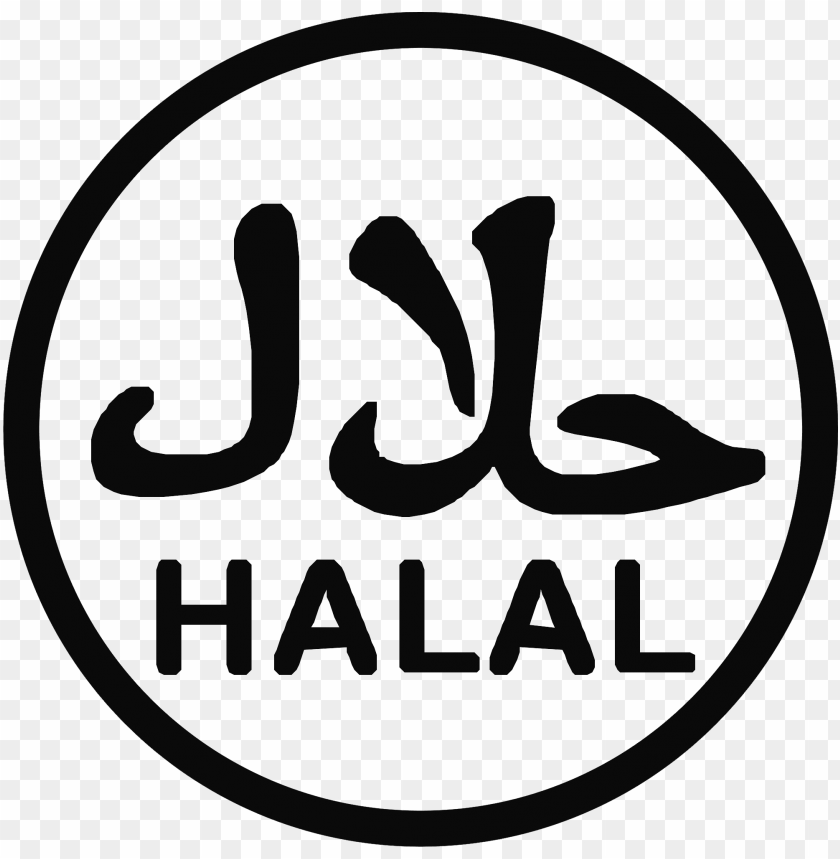Halal: (12, 18, 832, 841)
